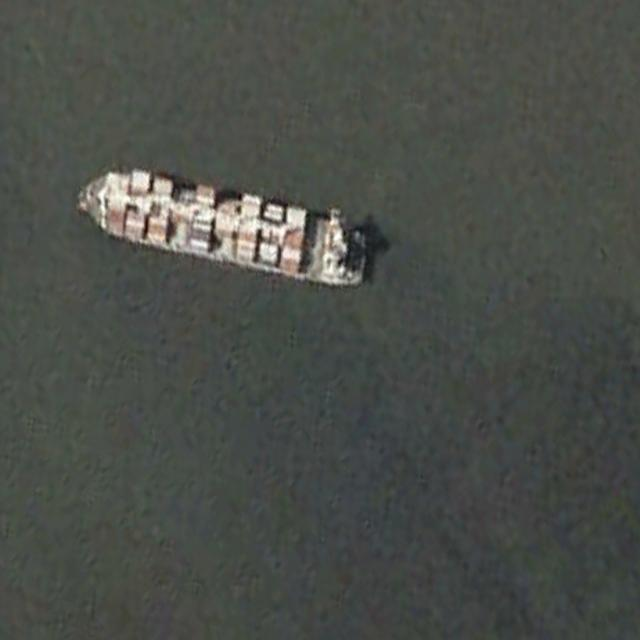Container Ship: (71, 149, 373, 294)
